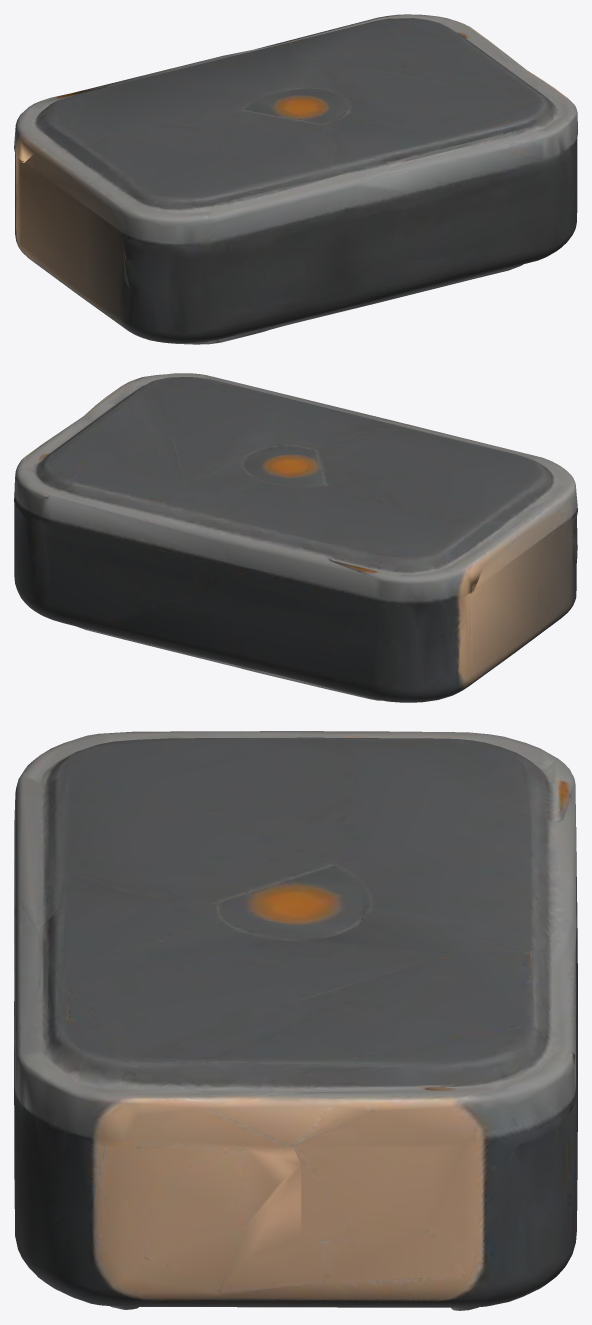
The model's file is laptop.glb.
The picture shows the model from 3 angles, top to bottom: view 1: azimuth 30°, elevation 25°; view 2: azimuth 150°, elevation 25°; view 3: azimuth 270°, elevation 25°; orthographic projection. The views are drawn at different scales.
Size of the model in its own units: 2 by 0.6275 by 1.28.
Materials: 1 (1 with a texture image).
